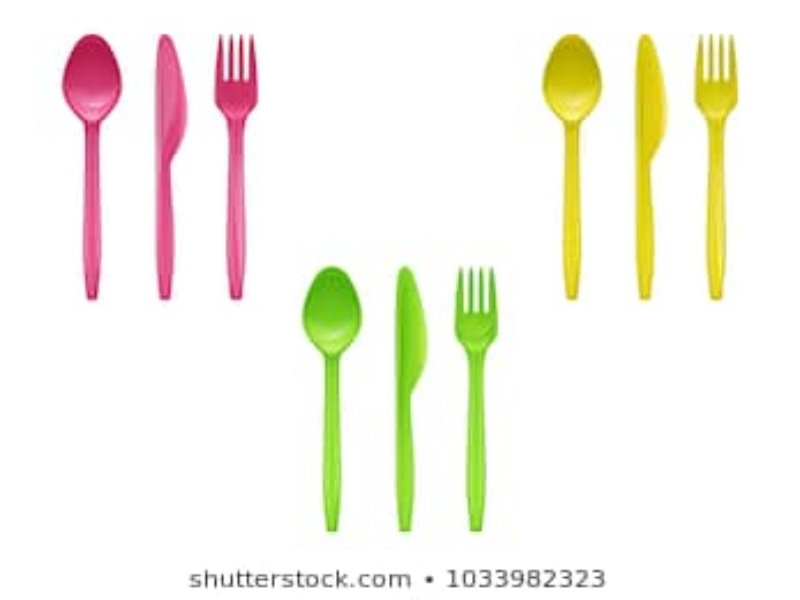plastic-silverware: (59, 31, 127, 300), (539, 30, 607, 299), (298, 265, 366, 534), (208, 31, 263, 300), (693, 33, 742, 300), (148, 30, 194, 301), (388, 264, 434, 535), (626, 32, 672, 303), (453, 263, 499, 534)
